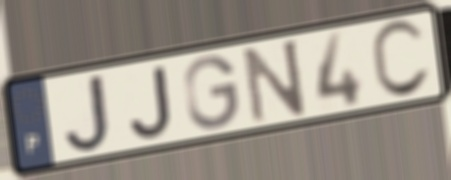4: (312, 29, 369, 111)
C: (367, 16, 434, 103)
G: (181, 52, 242, 133)
J: (61, 71, 114, 157), (127, 63, 176, 142)
N: (239, 36, 310, 127)
